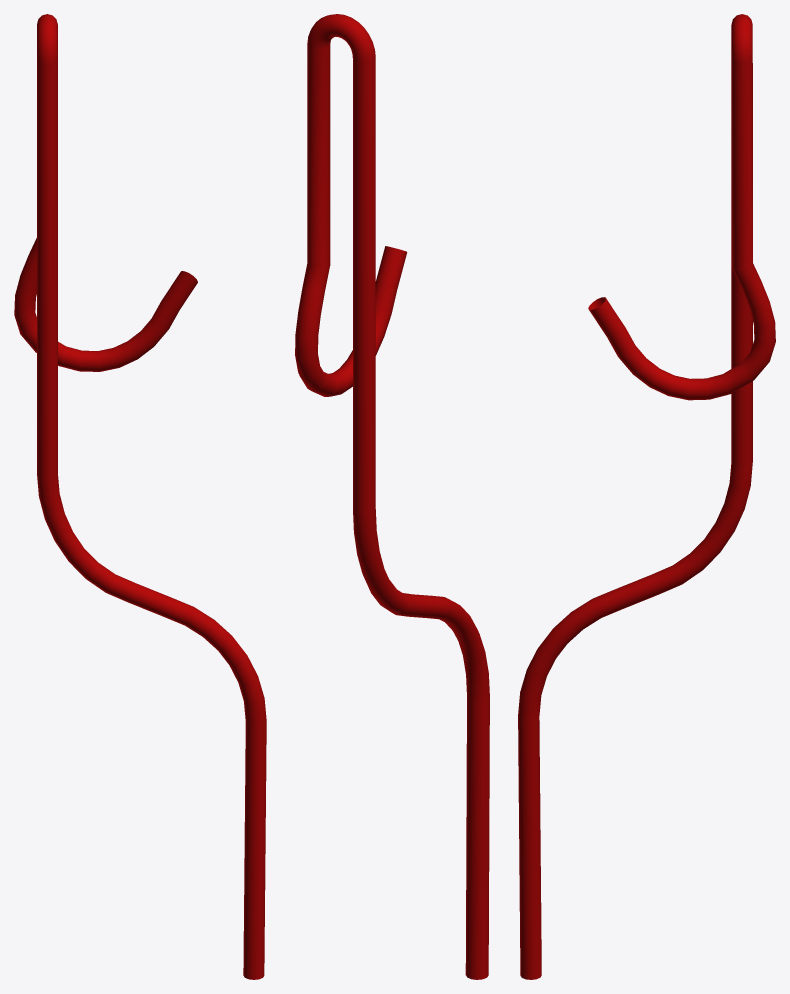
File: SM_水往上流.FBX
3 renders of one model, left to right at view 1: azimuth 90°, elevation 25°; view 2: azimuth 150°, elevation 25°; view 3: azimuth 270°, elevation 25°, orthographic. The views are drawn at different scales.
Visible parts, largest first — view 1: SM_水往上流; view 2: SM_水往上流; view 3: SM_水往上流.
Boxes of the visible parts, box(x1,y1,x2,y2) form: SM_水往上流: box(14, 14, 266, 979); SM_水往上流: box(295, 14, 489, 979); SM_水往上流: box(518, 14, 775, 979).
Bounding box in the file's own units: 0.0132 × 0.0482 × 0.1997.
